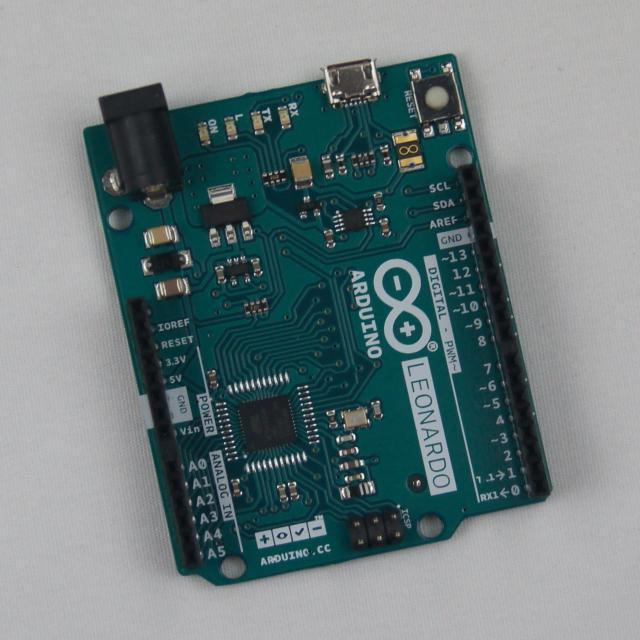Arduino-leonardo: (84, 55, 550, 585)
